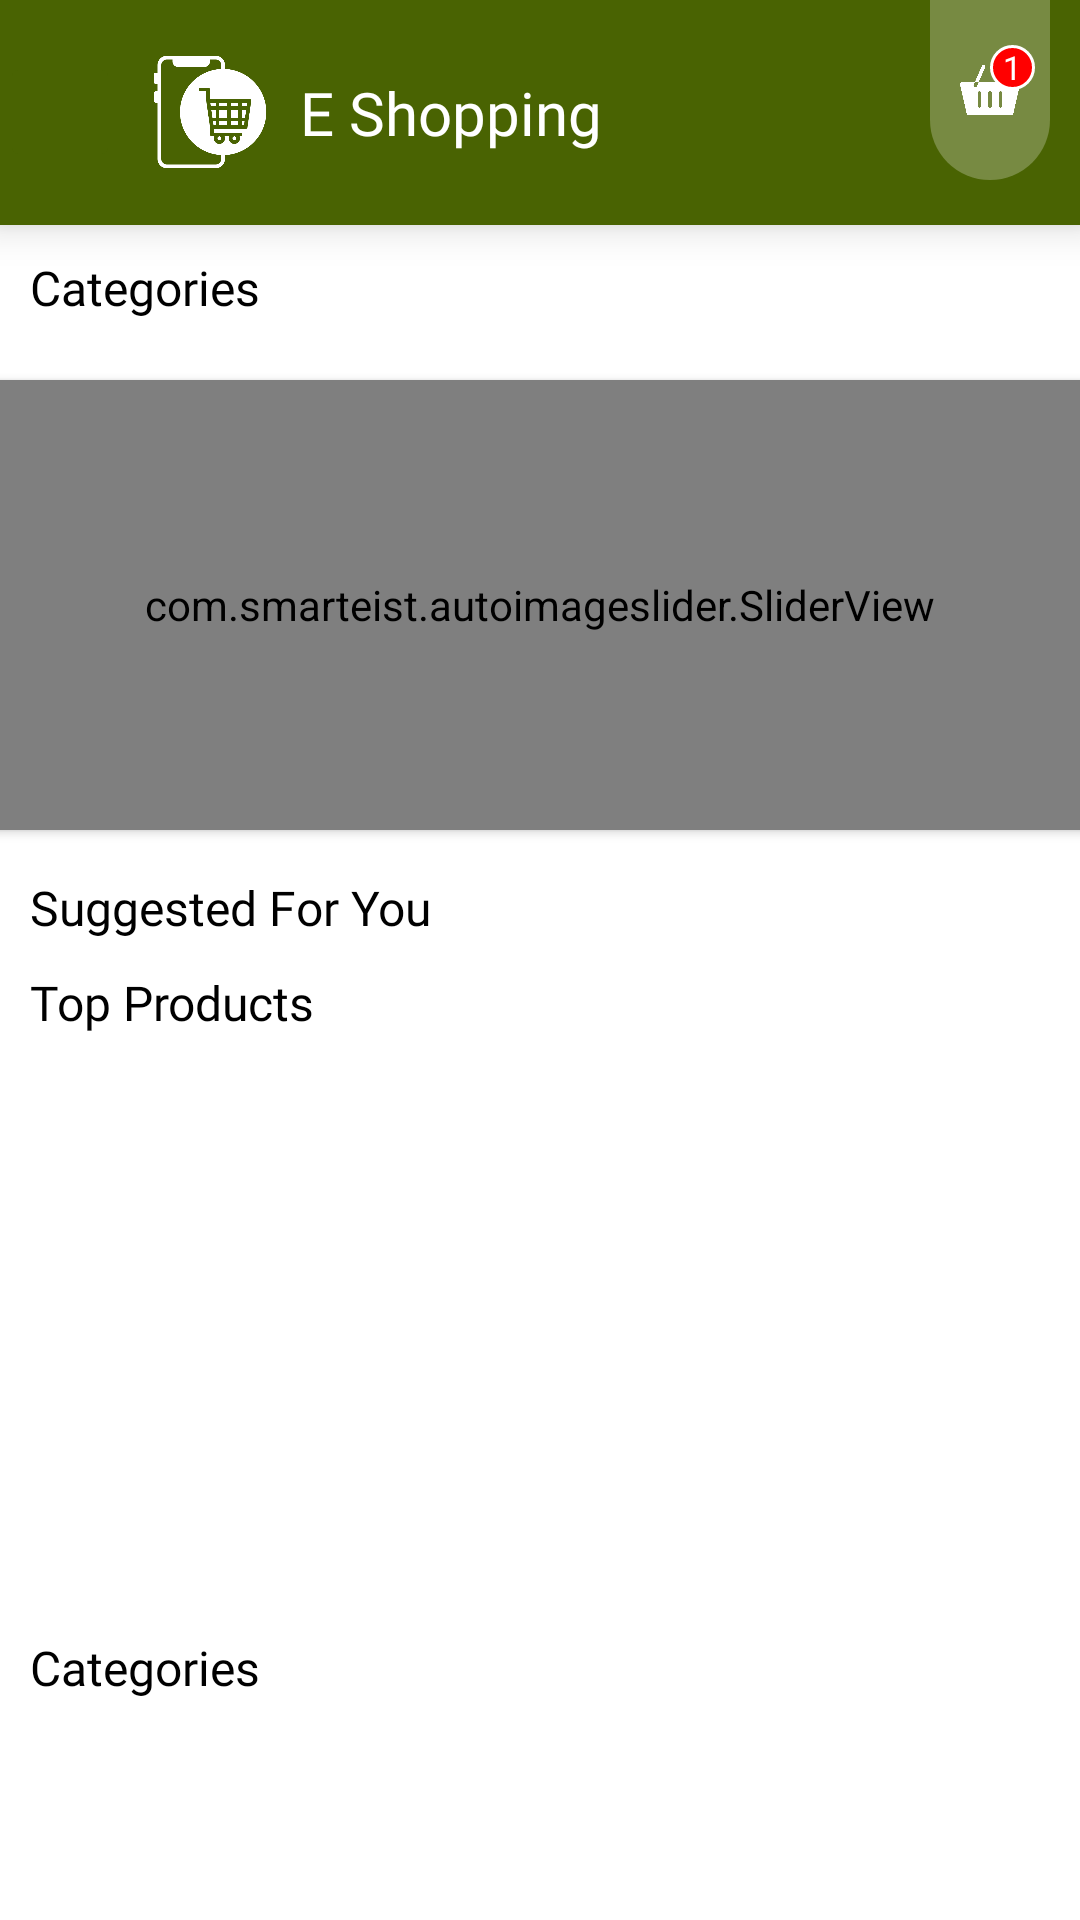

Icon click points for this 1080×1920 phone screenshot, format point (x, y):
cart: point (990, 90)
